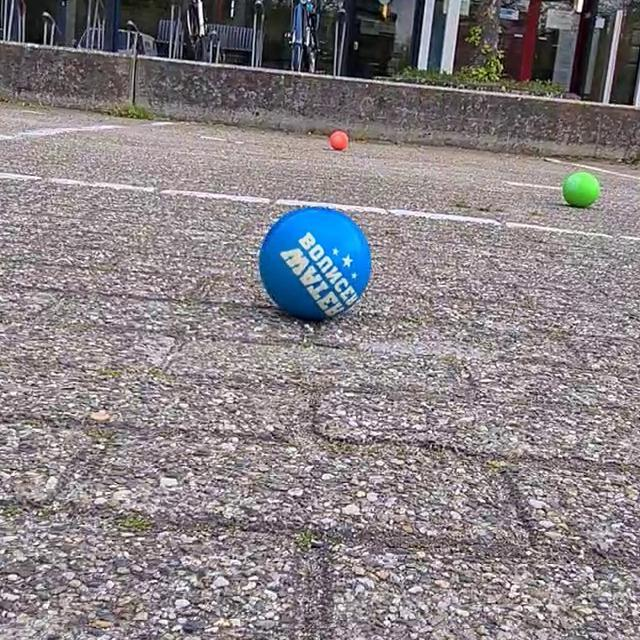ball: (562, 167, 604, 210), (325, 127, 353, 154)
